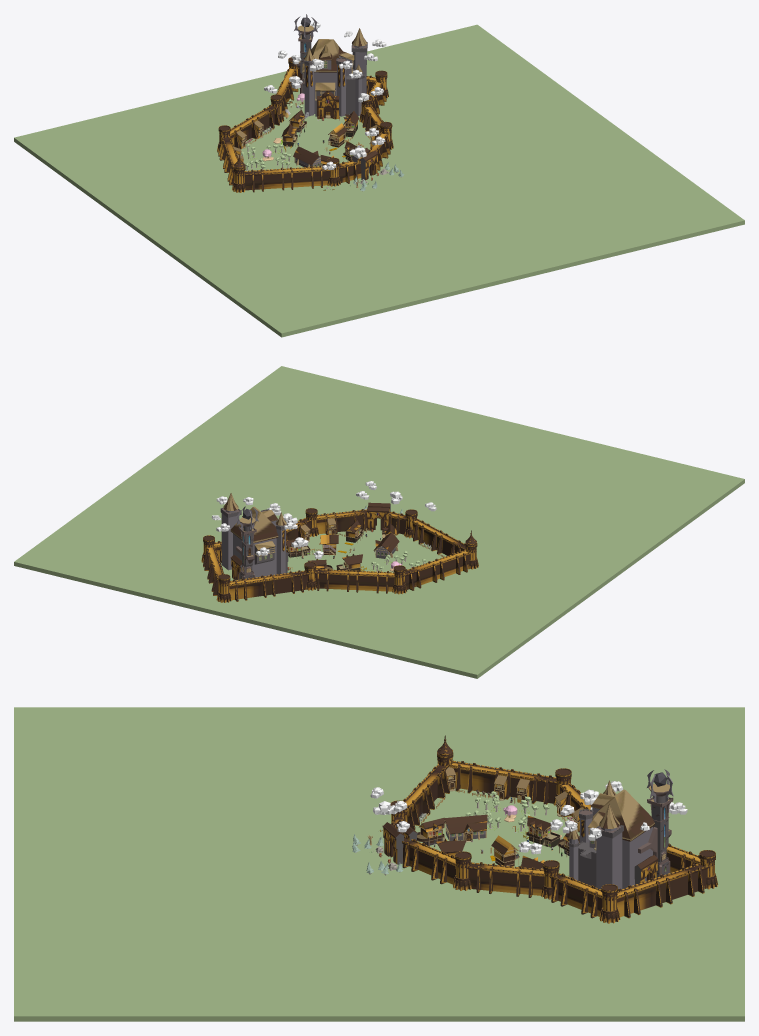
Rendered from tutorial_castle_town.gltf.
3 views of the same model, one above another, from view 1: azimuth 30°, elevation 25°; view 2: azimuth 150°, elevation 25°; view 3: azimuth 270°, elevation 25° (orthographic). The views are drawn at different scales.
Visible parts, largest first — view 1: ground, ps.medieval002.Castle, ps.medieval002.portal base (×3), ps.medieval002.Tower; view 2: ground, ps.medieval002.portal base (×5), ps.medieval002.Castle, ps.medieval002.Tower, ps.medieval002.Wall mid; view 3: ground, ps.medieval002.portal base (×4), ps.medieval002.Castle, ps.medieval002.Wall mid (×3), ps.medieval002.Tower, ps.medieval002.Wall Tower small (×2), ps.medieval002.Armory, ps.medieval002.House04, ps.medieval002.Entrence small, ps.medieval002.House03, ps.medieval002.House02.
Boxes of the visible parts, x1,y1,x2,y2 form: ground: (14, 24, 744, 337); ps.medieval002.Castle: (302, 28, 367, 118); ps.medieval002.portal base (×3): (218, 105, 331, 192); ps.medieval002.Tower: (294, 14, 317, 93); ground: (14, 366, 744, 678); ps.medieval002.portal base (×5): (203, 518, 471, 601); ps.medieval002.Castle: (220, 493, 286, 577); ps.medieval002.Tower: (236, 506, 258, 579); ps.medieval002.Wall mid: (316, 509, 366, 534); ground: (14, 707, 744, 1021); ps.medieval002.portal base (×4): (403, 760, 709, 918); ps.medieval002.Castle: (568, 780, 654, 889); ps.medieval002.Wall mid (×3): (402, 836, 602, 918); ps.medieval002.Tower: (638, 769, 673, 877); ps.medieval002.Wall Tower small (×2): (453, 851, 620, 923); ps.medieval002.Armory: (444, 814, 487, 842); ps.medieval002.House04: (526, 815, 560, 847); ps.medieval002.Entrence small: (382, 822, 404, 864); ps.medieval002.House03: (417, 817, 445, 846); ps.medieval002.House02: (491, 835, 518, 866).
Size of the model in its own units: 240 by 41.61 by 240.
